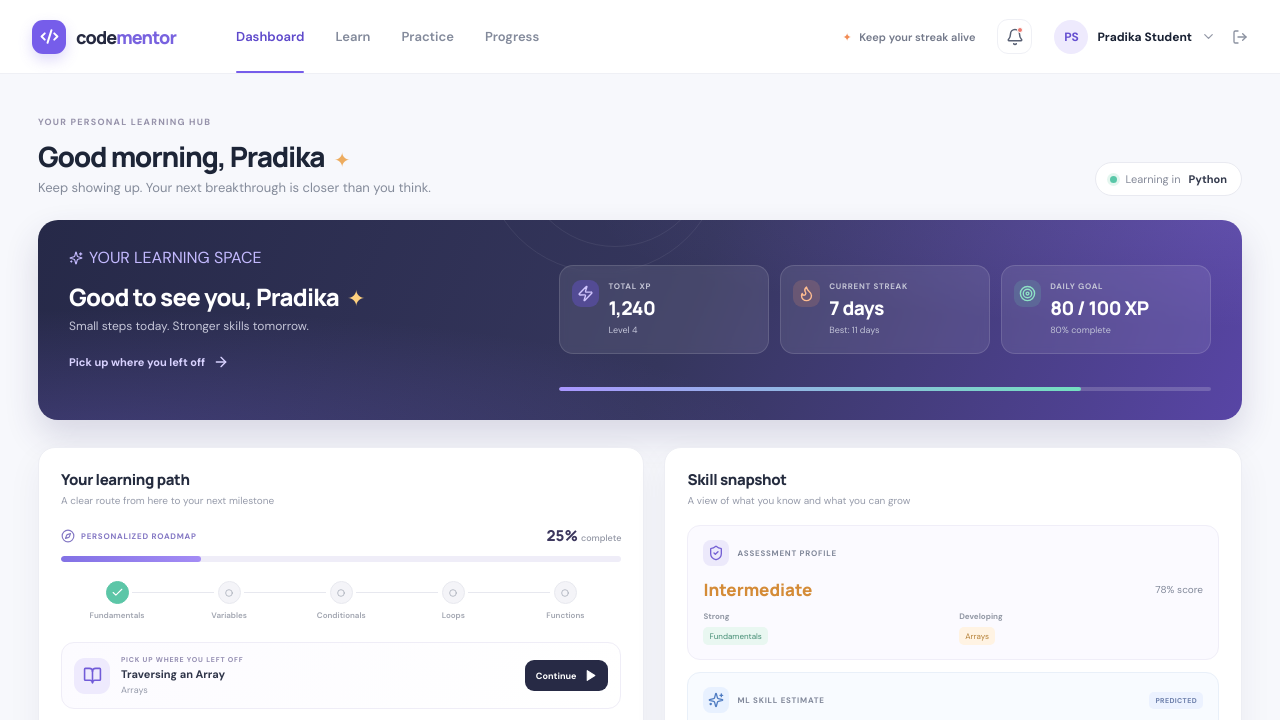
Test: student dashboard › logs out without showing the token and returns to login
The image size is (1280, 720).
Check: the heading "Your learning path" is shown, box [61,469,190,490]
Step 1. Click the button named "Log out" → (1236,36), box [1225,22,1248,50]
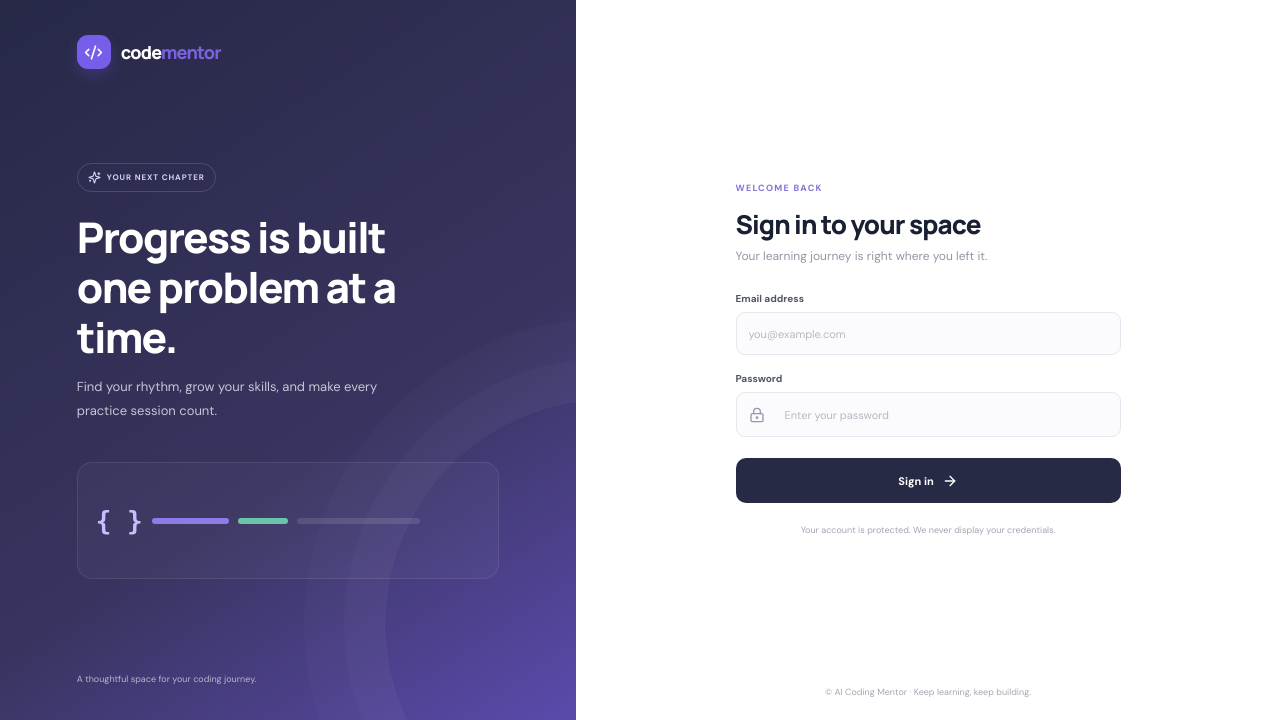
Check: the heading "Sign in to your space" is shown, box [736,206,981,242]
